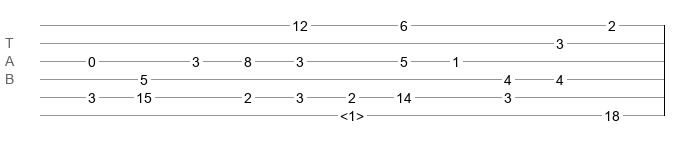0: (88, 54, 96, 64)
1: (452, 54, 460, 64)
12: (292, 18, 308, 28)
14: (396, 90, 412, 100)
15: (136, 90, 152, 100)
18: (604, 108, 620, 118)
2: (244, 90, 252, 100), (348, 90, 356, 100), (608, 18, 616, 28)
3: (88, 90, 96, 100), (192, 54, 200, 64), (296, 90, 304, 100), (296, 54, 304, 64), (504, 90, 512, 100), (556, 36, 564, 46)
4: (504, 72, 512, 82), (556, 72, 564, 82)
5: (140, 72, 148, 82), (400, 54, 408, 64)
6: (400, 18, 408, 28)
8: (244, 54, 252, 64)
harmonic: (340, 108, 364, 118)
